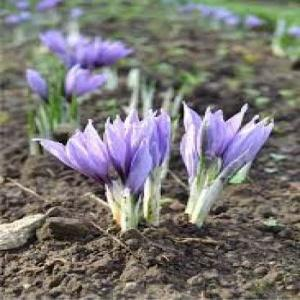Saffron: (34, 121, 112, 185), (212, 120, 278, 190), (101, 110, 147, 186), (200, 100, 227, 168)
